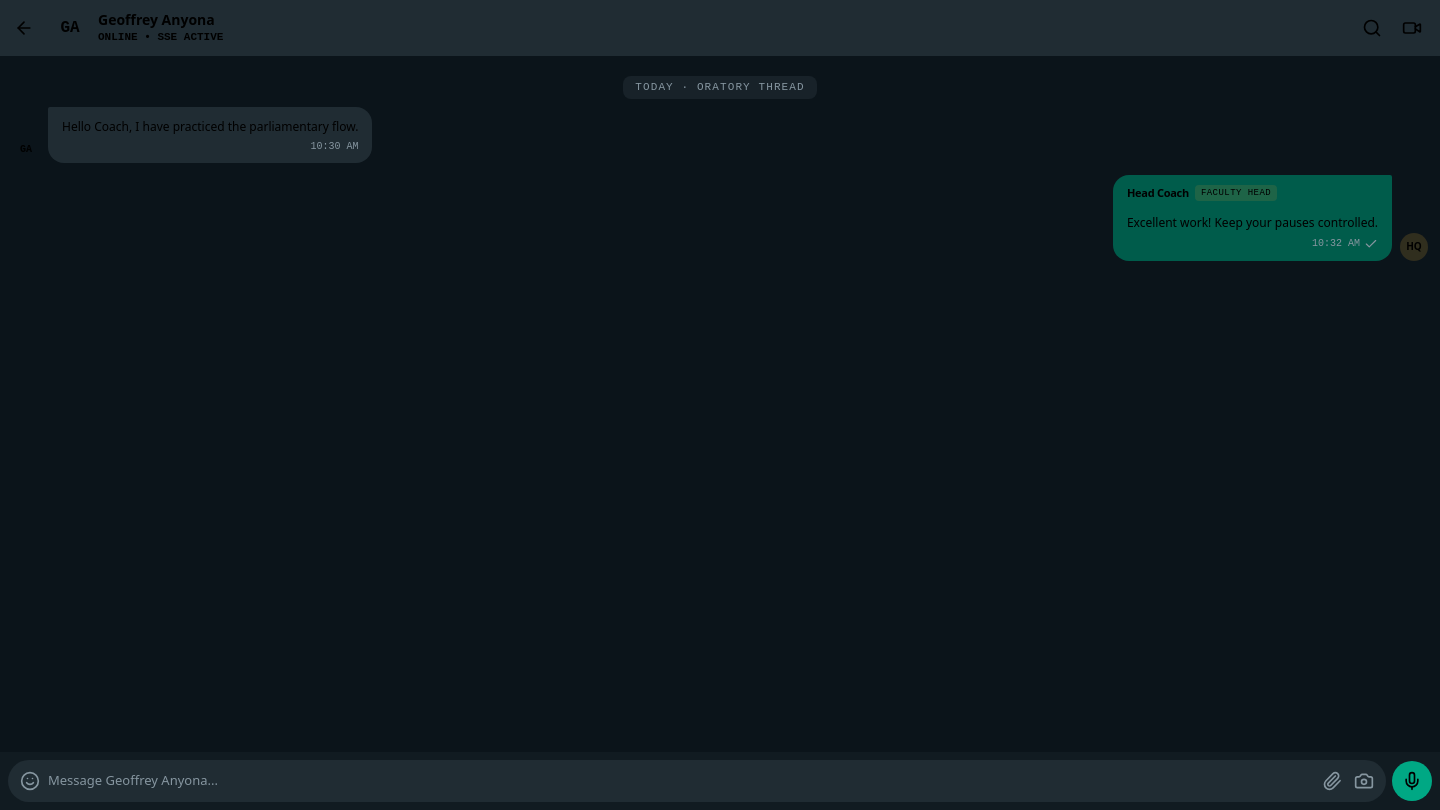
CoachMessenger Component (WhatsApp-style Modern Chat) › toggles in-chat search and filters messages
Expected: the text "Hello Coach, I have practiced the parliamentary flow." is shown, [62, 117, 358, 136]
Note: Toggle search button
Click the button titled "Search conversation" at (1372,28), box [1354, 10, 1390, 46]
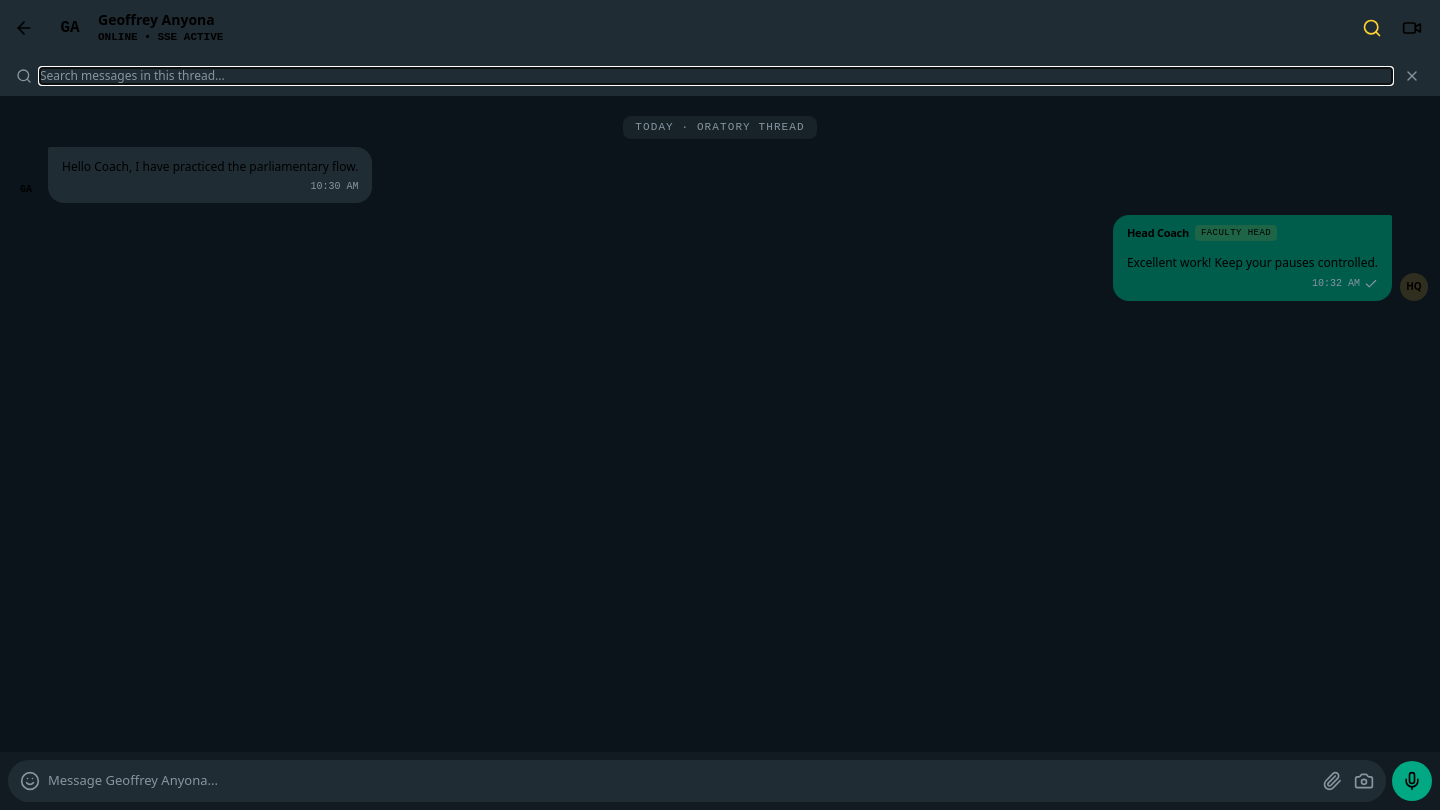
Result: the field with placeholder "Search messages in this thread..." is shown
Note: Filter for "parliamentary"
Type "parliamentary" into the field with placeholder "Search messages in this thread..." at (716,76), box [40, 68, 1392, 84]
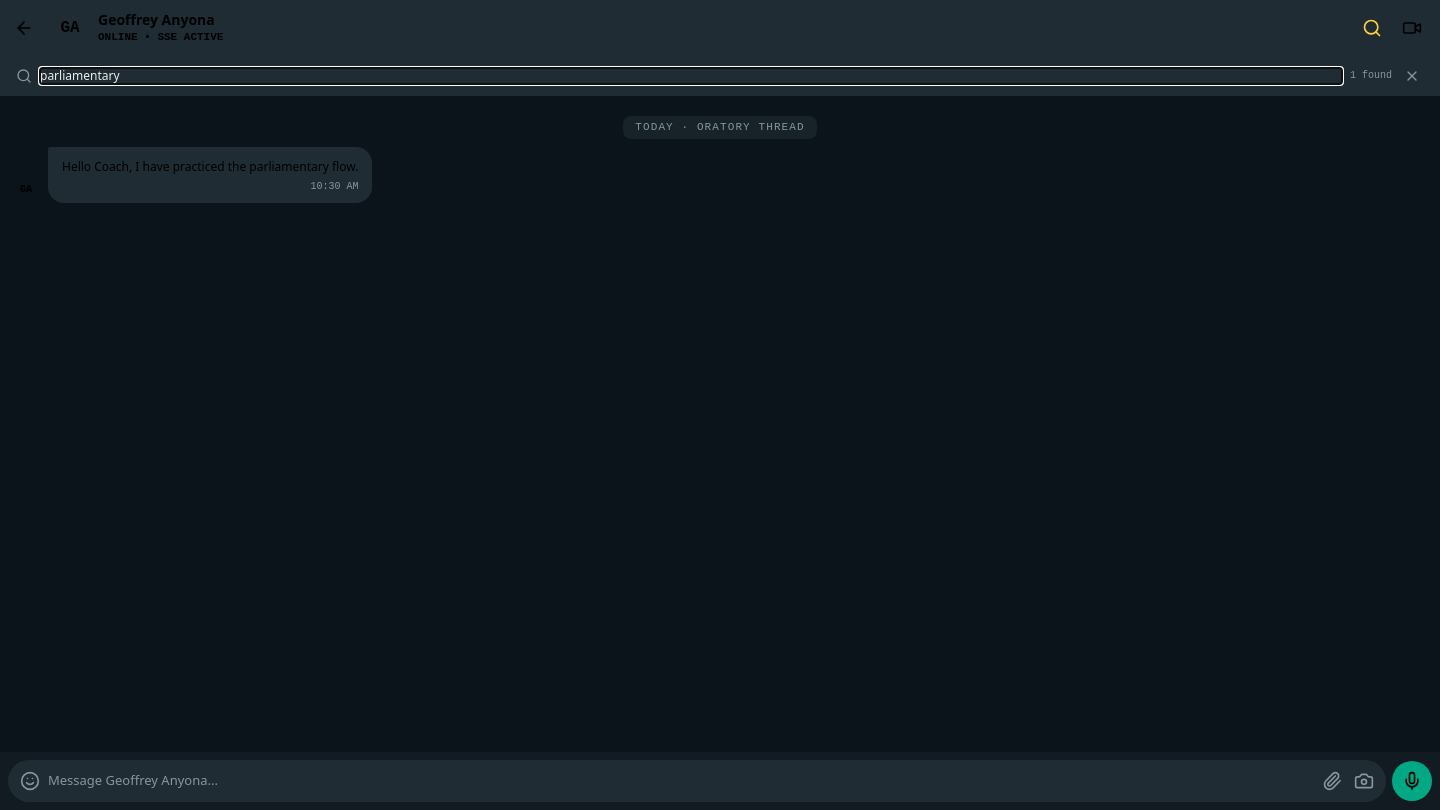
Expected: the text "Hello Coach, I have practiced the parliamentary flow." is shown, [62, 157, 358, 176]
Result: the text "1 found" is shown at [1350, 69, 1392, 83]
